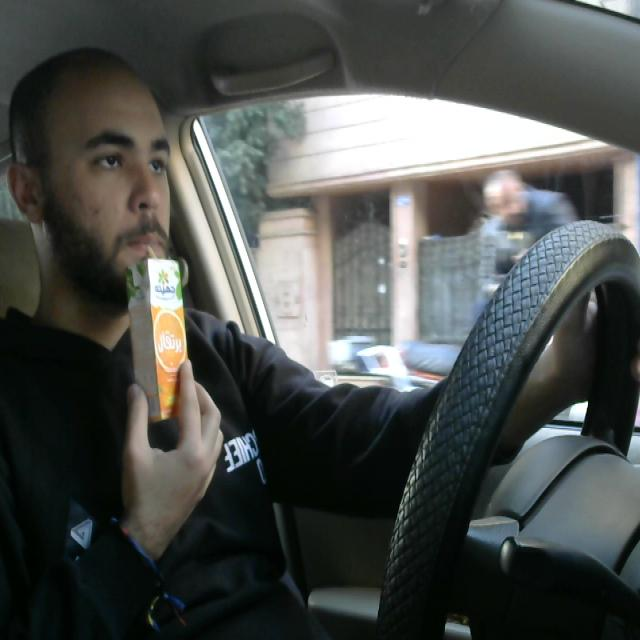drinking: (122, 237, 200, 428)
